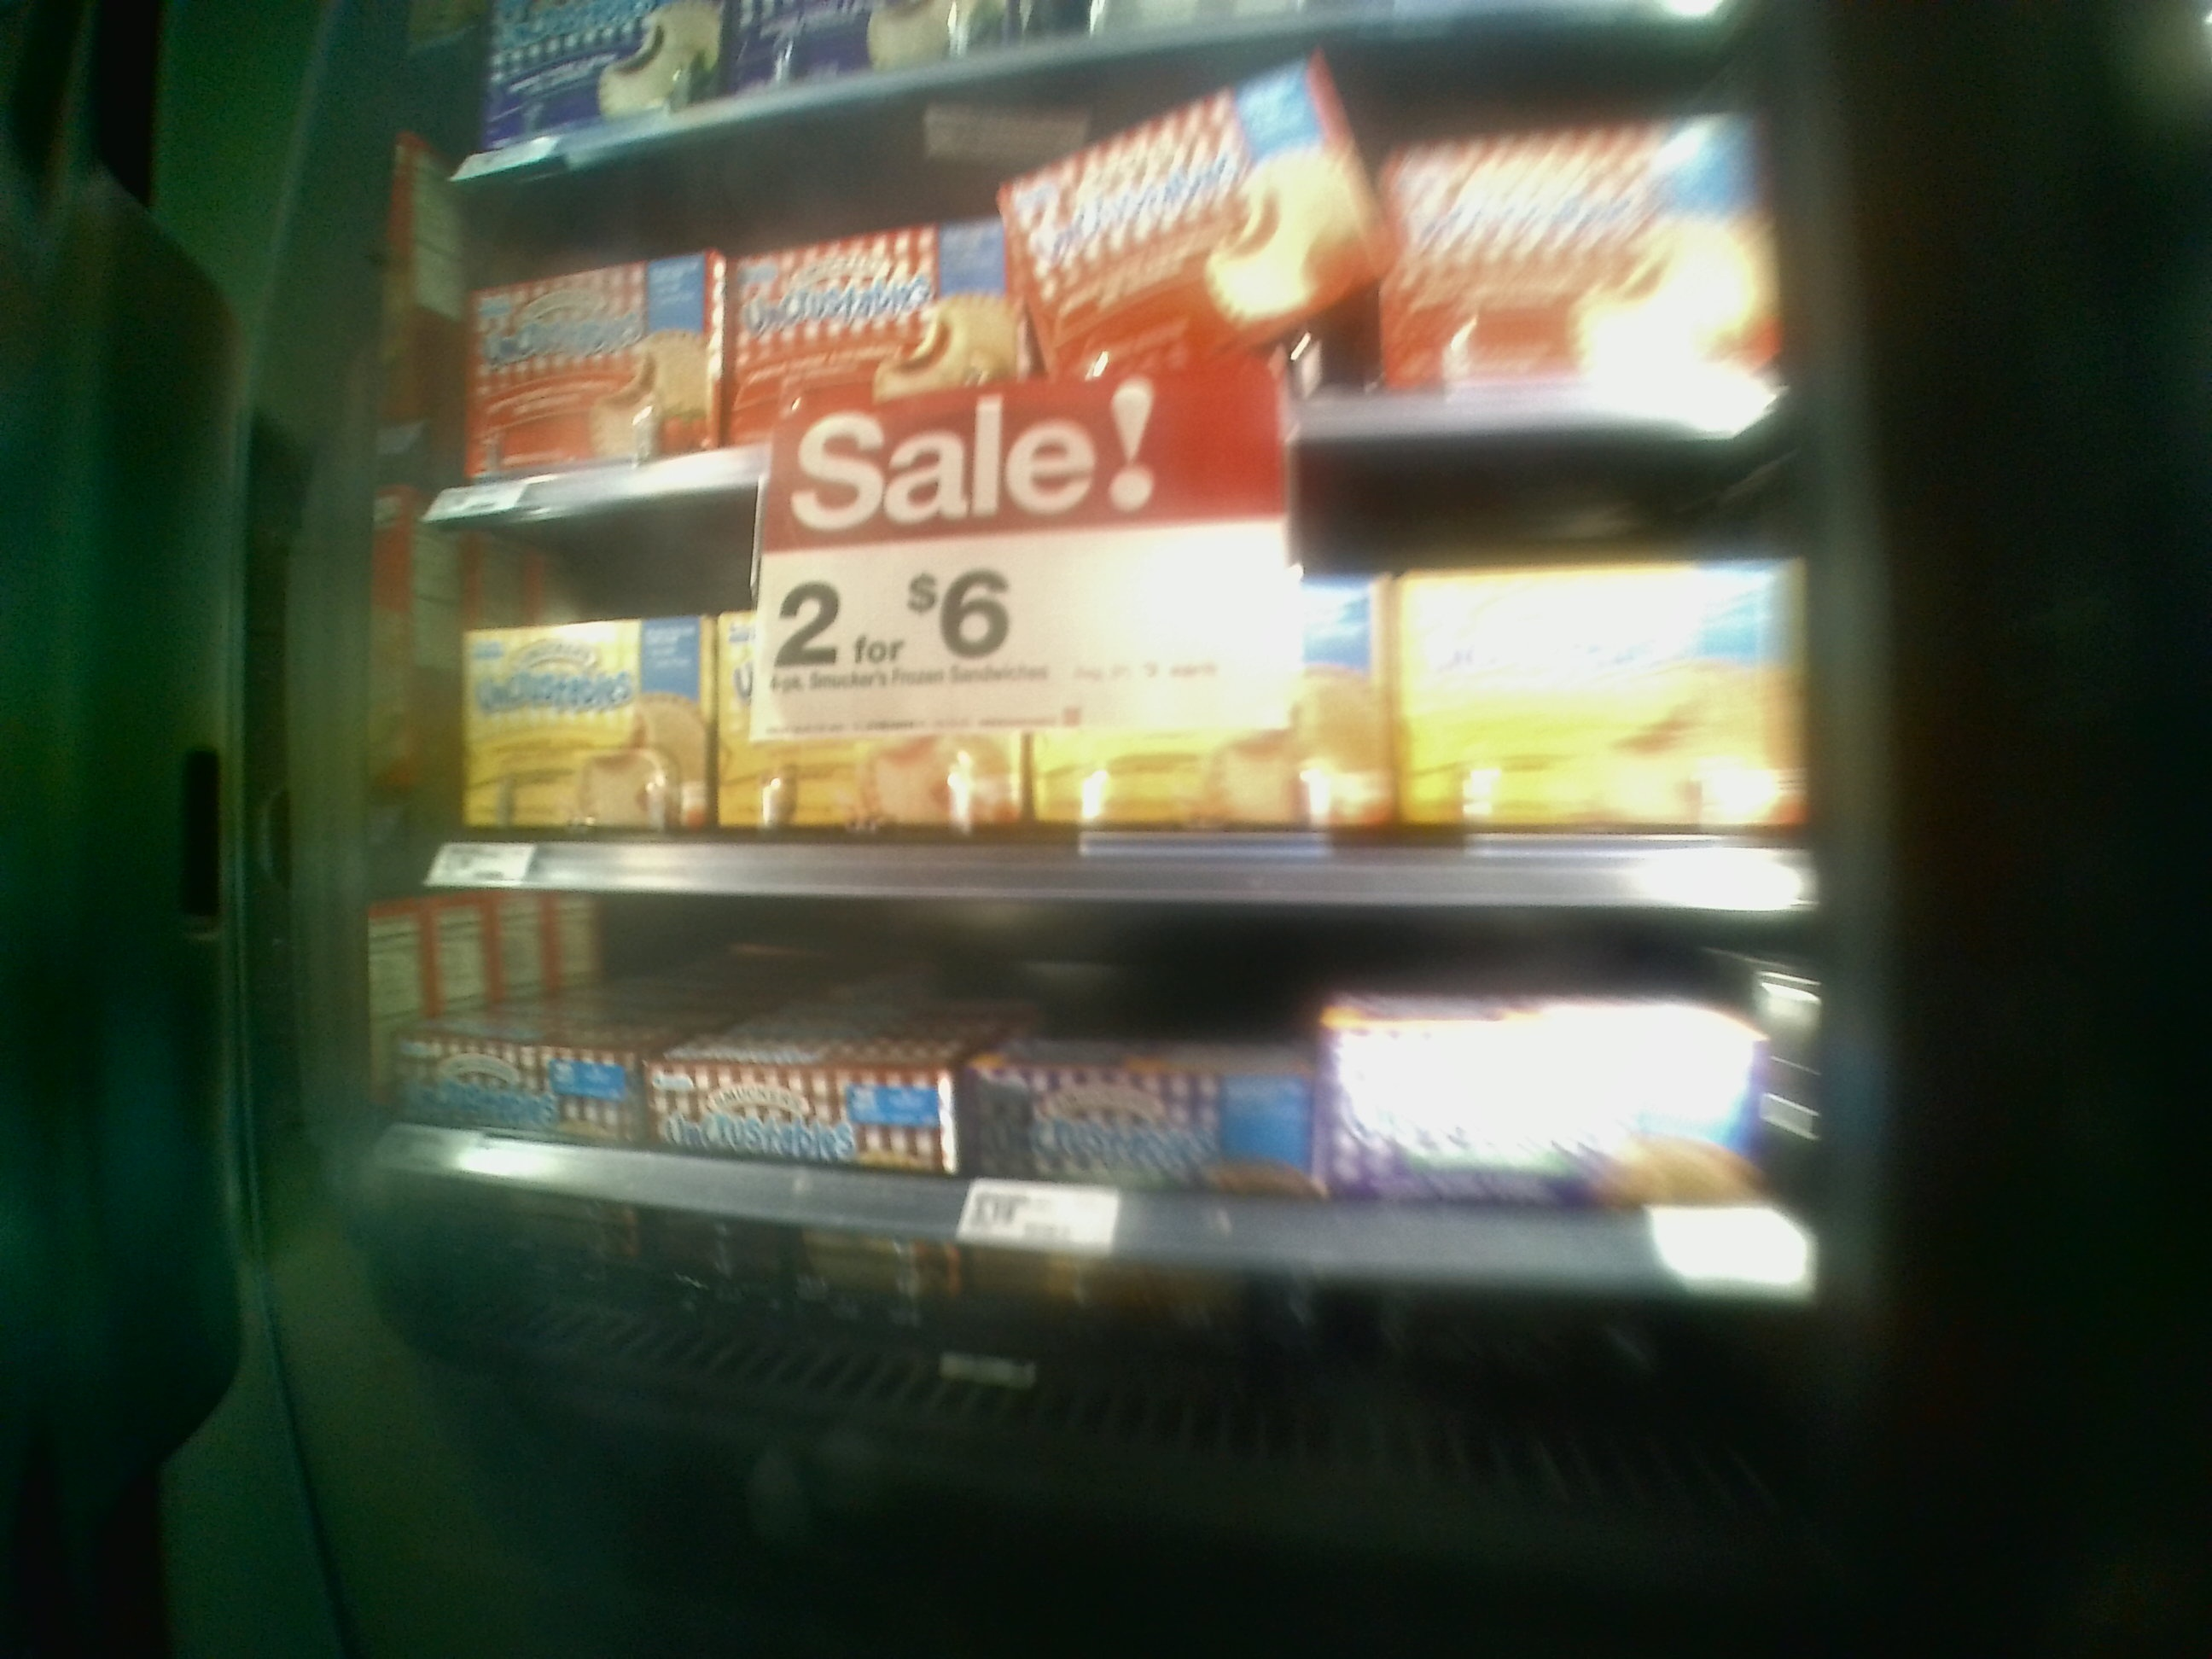shelf: (415, 884, 1834, 1401), (418, 498, 1822, 918), (430, 159, 1804, 484)
